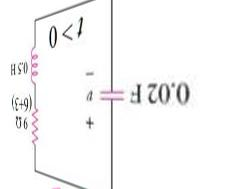inductor: (26, 42, 40, 88)
